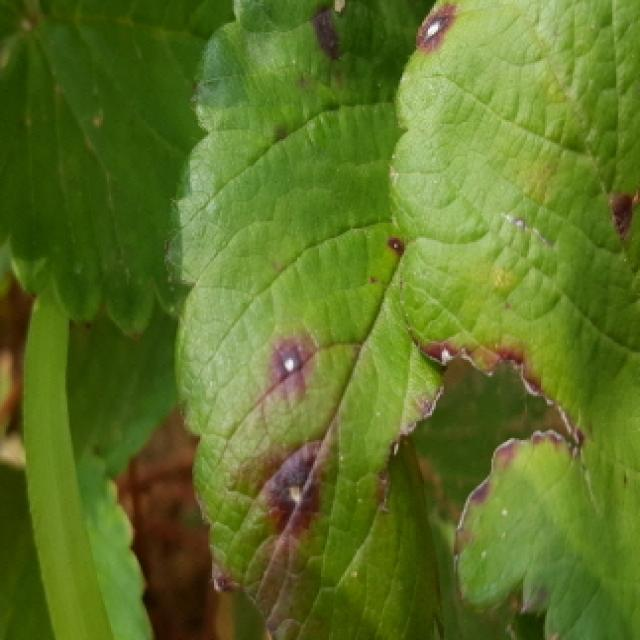Leaf Spot: (165, 0, 445, 640), (387, 0, 640, 640)
